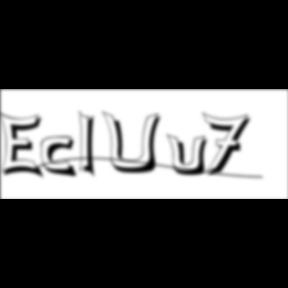7: (201, 111, 256, 179)
E: (0, 110, 48, 182)
U: (102, 110, 168, 176)
c: (41, 136, 81, 180)
l: (79, 108, 102, 182)
u: (167, 132, 215, 178)
